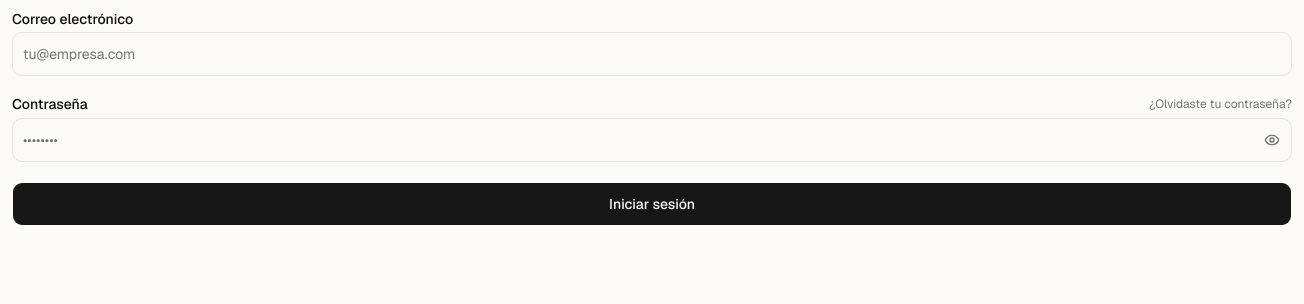
Test case: LoginForm — manejo de respuestas del servidor › muestra error de negocio inactivo cuando code es inactive_business
This screenshot has width=1304, height=304.
Type "user@test.com" into the field labelled "Correo electrónico". click: (652, 54)
box: [12,32,1292,76]
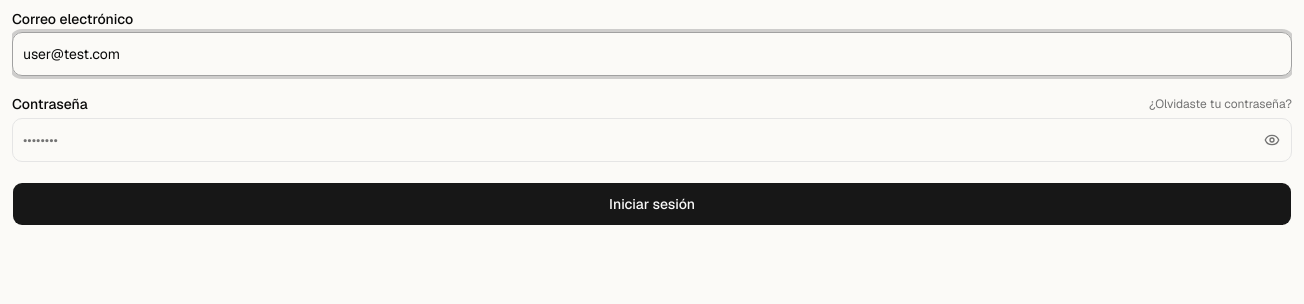
Type "password123" into the password field labelled "Contraseña". click: (652, 140)
box: [12,118,1292,162]
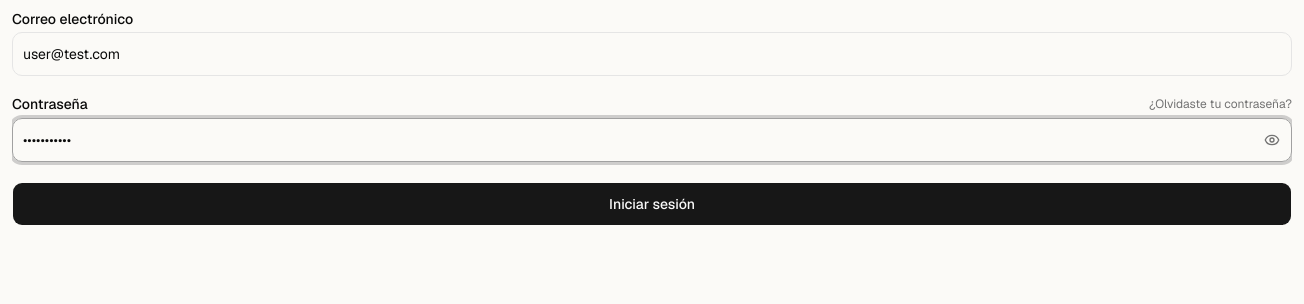
Click the button "Iniciar sesión". click: (652, 204)
box: [12,182,1292,226]
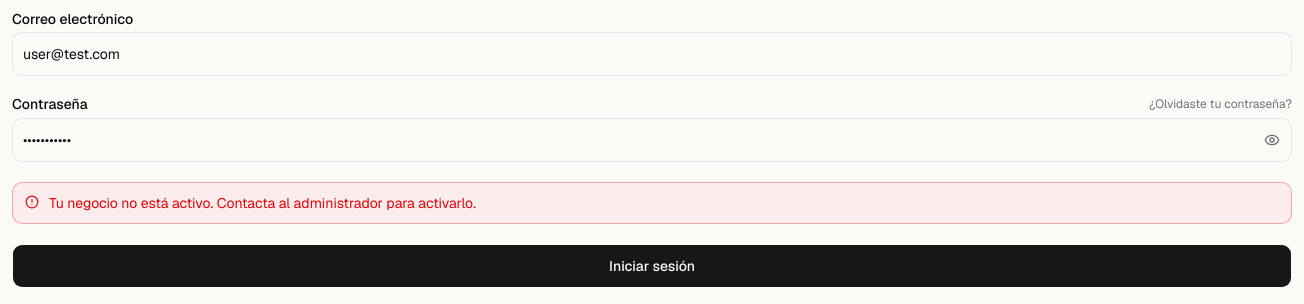
Expected: the text "negocio no está activo" is shown, [49,194,476,212]
